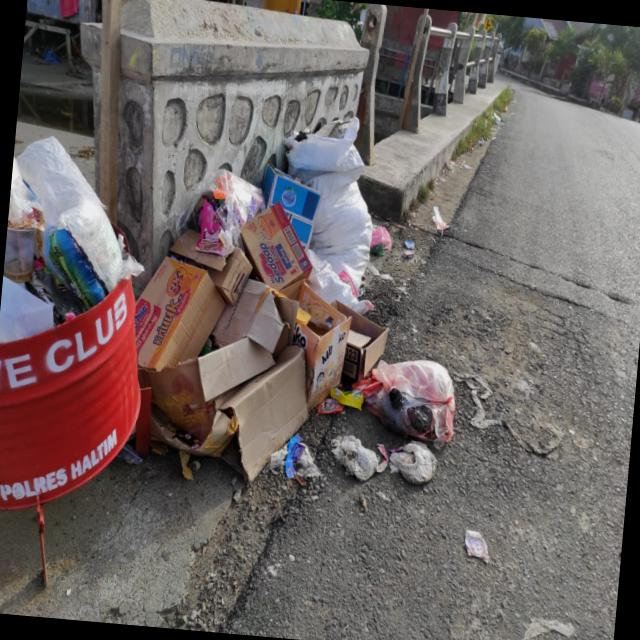garbage: (0, 125, 480, 525)
